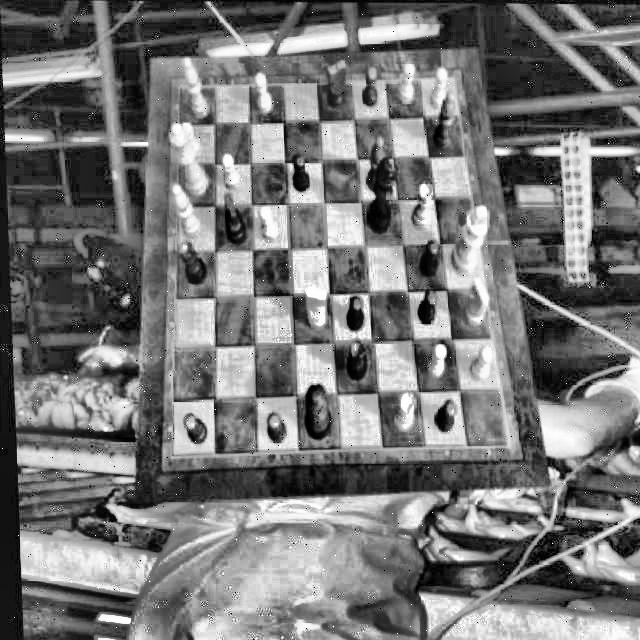black-bishop: (430, 90, 455, 149), (364, 134, 386, 192)
black-king: (364, 158, 396, 234)
black-knight: (222, 192, 245, 243), (324, 61, 346, 109)
black-pawn: (180, 413, 205, 446), (416, 240, 437, 278), (432, 399, 454, 433), (414, 290, 435, 325), (361, 65, 378, 107), (290, 152, 308, 191), (263, 412, 284, 445), (343, 296, 362, 332)
black-queen: (300, 383, 329, 441)
black-rook: (176, 239, 205, 285), (342, 339, 363, 381)
white-bishop: (170, 184, 199, 239), (182, 58, 207, 120)
white-king: (446, 204, 489, 275)
white-knight: (458, 278, 486, 324), (301, 286, 325, 329)
white-pawn: (466, 344, 490, 380), (427, 67, 447, 109), (395, 63, 415, 105), (177, 121, 198, 159), (422, 342, 444, 378), (255, 72, 273, 114), (219, 154, 239, 190), (258, 206, 277, 242)
white-queen: (167, 122, 207, 196)
white-rook: (408, 183, 432, 231), (389, 392, 414, 429)
